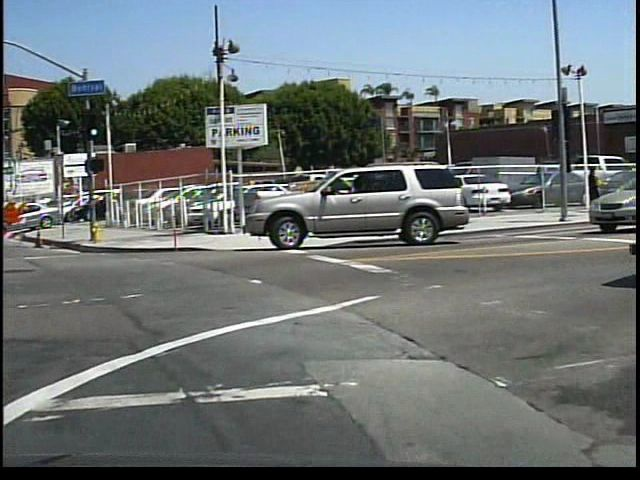person: (582, 164, 605, 216)
